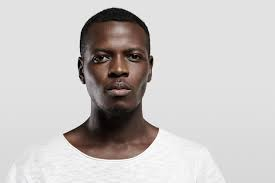face: (76, 5, 156, 122)
